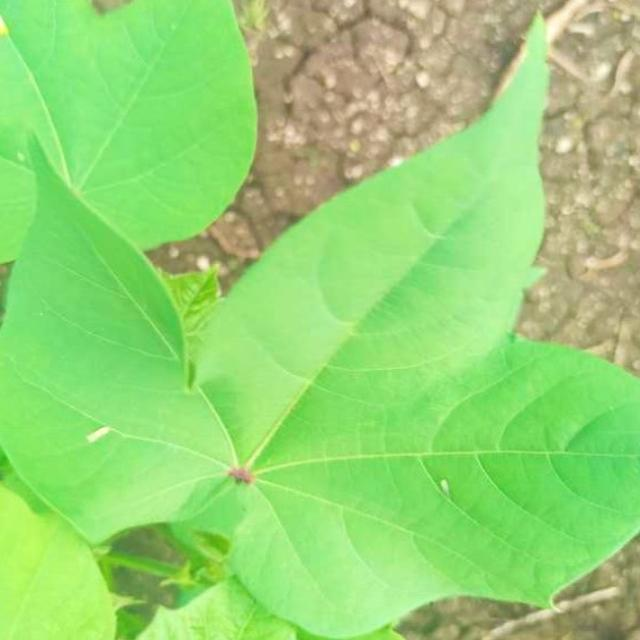Healthy Leaf: (39, 76, 549, 640)
